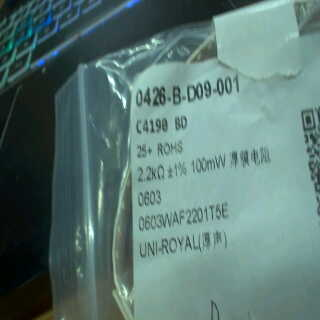2.2kR: (134, 161, 167, 184)
